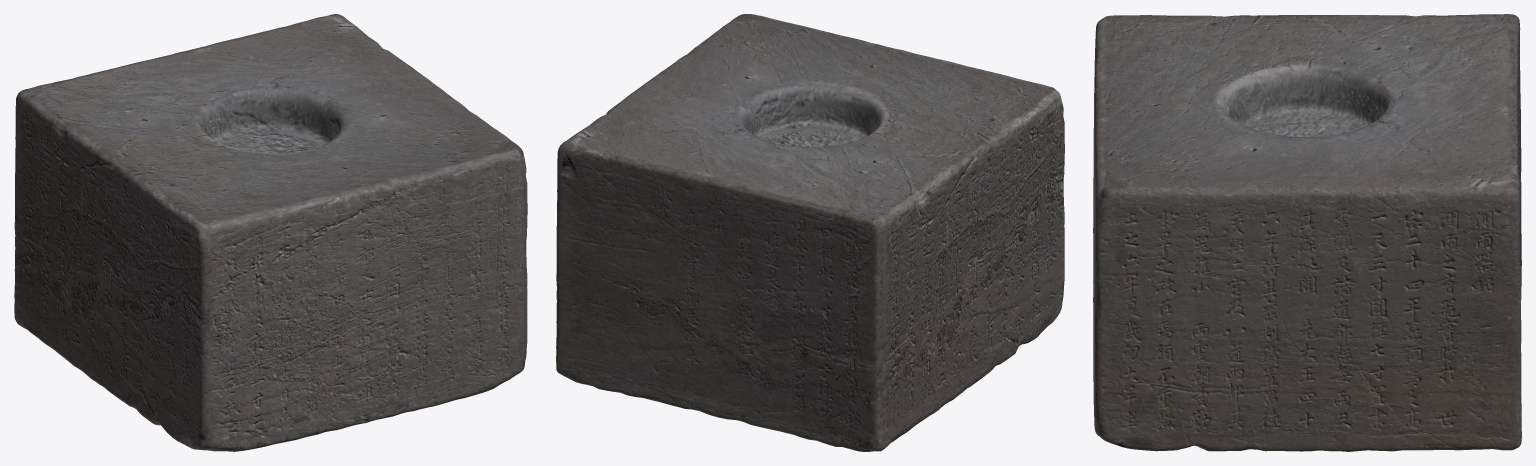
Rendered from raindae.glb.
3 views of the same model, side by side, from view 1: azimuth 30°, elevation 25°; view 2: azimuth 150°, elevation 25°; view 3: azimuth 270°, elevation 25° (orthographic). The views are drawn at different scales.
Visible parts, largest first — view 1: Object_2; view 2: Object_2; view 3: Object_2.
Part boxes in pixels (left/top/right/bottom): Object_2: left=14, top=14, right=527, bottom=451; Object_2: left=556, top=14, right=1064, bottom=451; Object_2: left=1093, top=14, right=1521, bottom=451.
Size of the model in its own units: 0.4569 by 0.3204 by 0.4603.
Materials: 1 (1 with a texture image).
